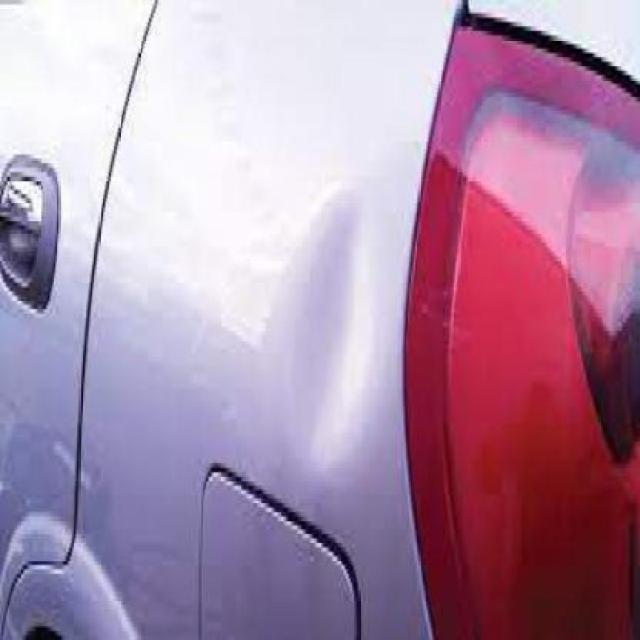quaterpanel-dent: (109, 0, 401, 637)
